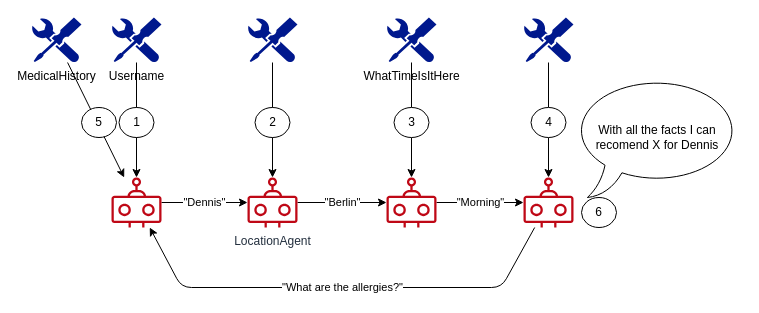
Some shapes in this 759 by 313 pixel diagram are drawn without their labels. The shapes that lost their labels are listed below. From the top down, each one's centre as x and y in pixels, then its label:
point (272, 39): WhereIsUser
point (548, 39): GetIngredients
point (136, 202): UserAgent
point (411, 202): TimeAgent
point (548, 202): Chef
